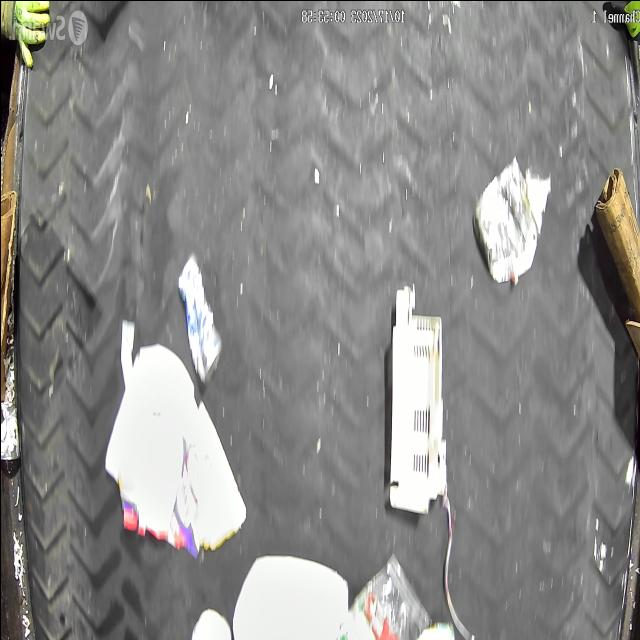can: (176, 252, 222, 384), (0, 399, 19, 459)
milk_jug: (230, 554, 348, 640)
